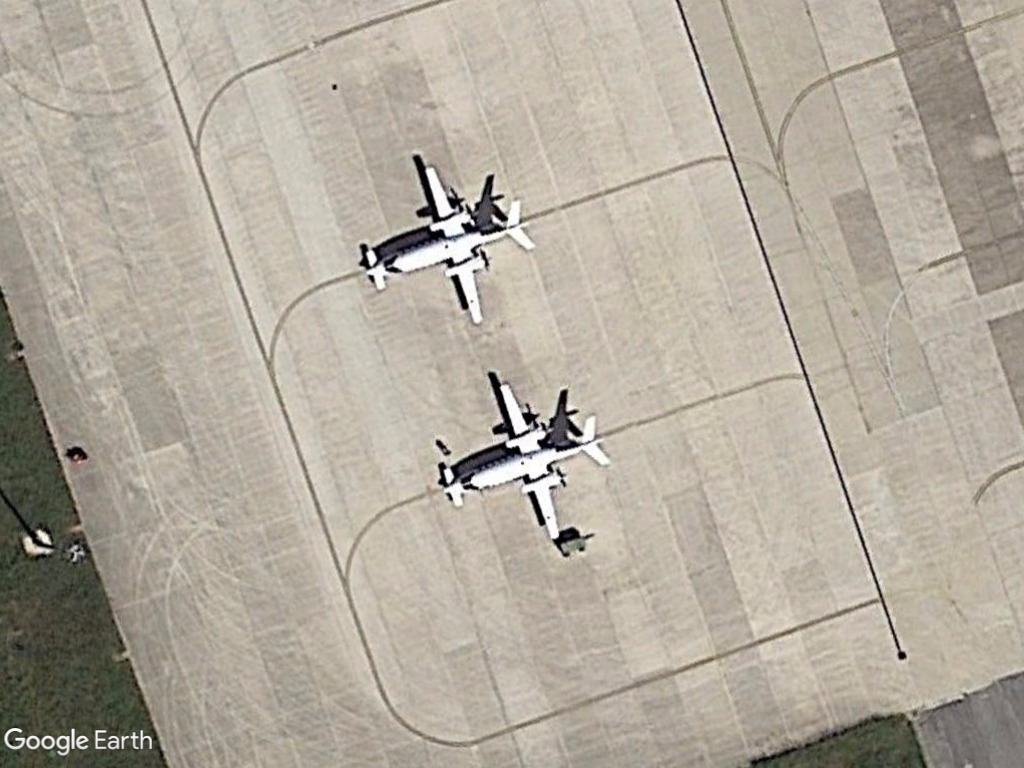trainer: (438, 381, 614, 561), (367, 164, 540, 326)
